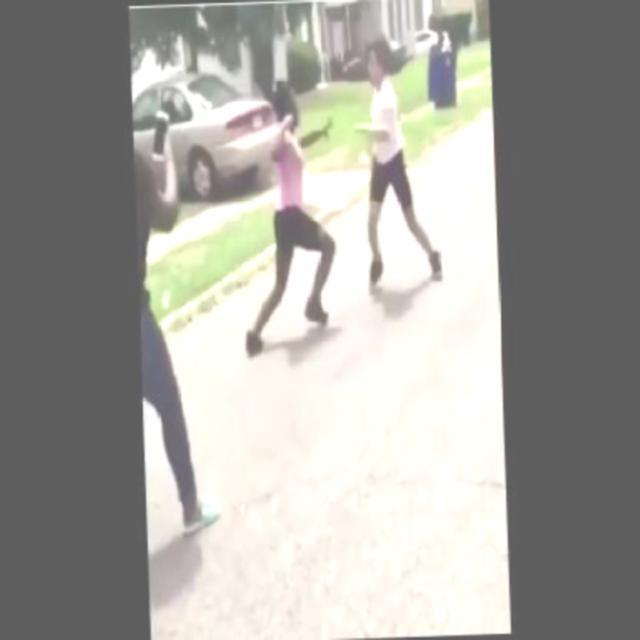fight: (268, 38, 407, 302)
